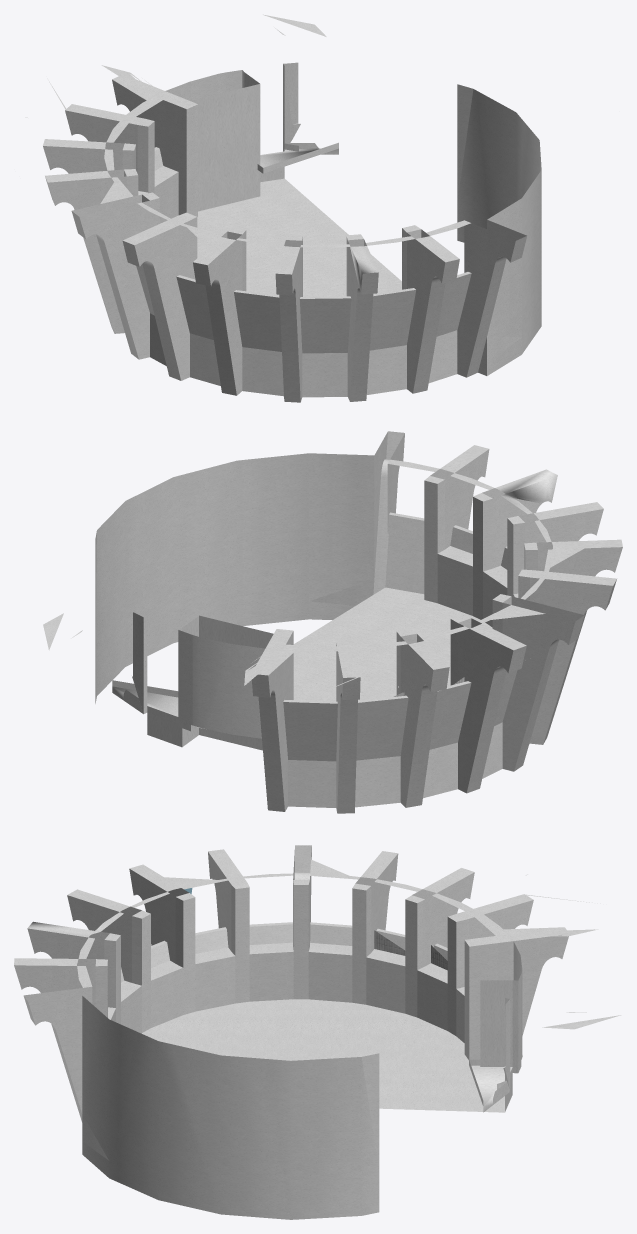
The picture shows the model from 3 angles, top to bottom: view 1: azimuth 30°, elevation 25°; view 2: azimuth 150°, elevation 25°; view 3: azimuth 270°, elevation 25°; orthographic projection. The views are drawn at different scales.
Parts seen in each view (by area): view 1: 2; view 2: 2; view 3: 2.
Boxes of the visible parts, left/top/right/bottom form: 2: left=25, top=14, right=541, bottom=402; 2: left=43, top=431, right=622, bottom=813; 2: left=14, top=845, right=621, bottom=1219.
Bounding box in the file's own units: 23.47 × 6.83 × 23.55.
4 materials, 4 textured.
